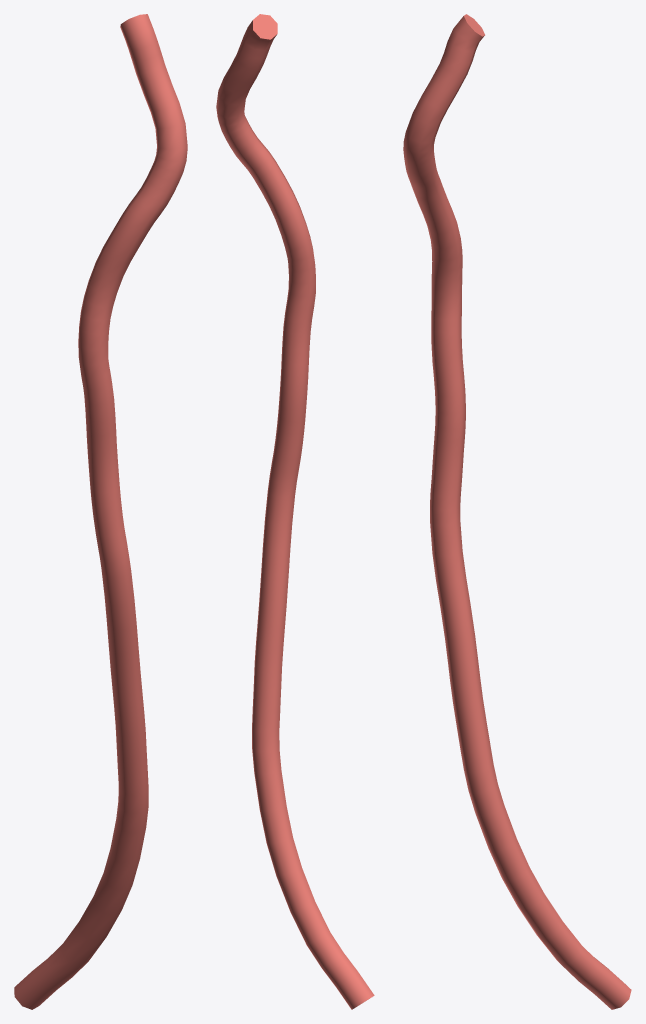
File: artere-femorale.glb
3 views of the same model, side by side, from view 1: azimuth 30°, elevation 25°; view 2: azimuth 210°, elevation 25°; view 3: azimuth 270°, elevation 25° (orthographic). The views are drawn at different scales.
Parts seen in each view (by area): view 1: artere-femorale; view 2: artere-femorale; view 3: artere-femorale.
Part boxes in pixels (x1,y1,x2,y2): artere-femorale: [14, 14, 187, 1009]; artere-femorale: [216, 14, 374, 1009]; artere-femorale: [403, 14, 631, 1009].
Bounding box in the file's own units: 0.032 × 0.3382 × 0.0696.
